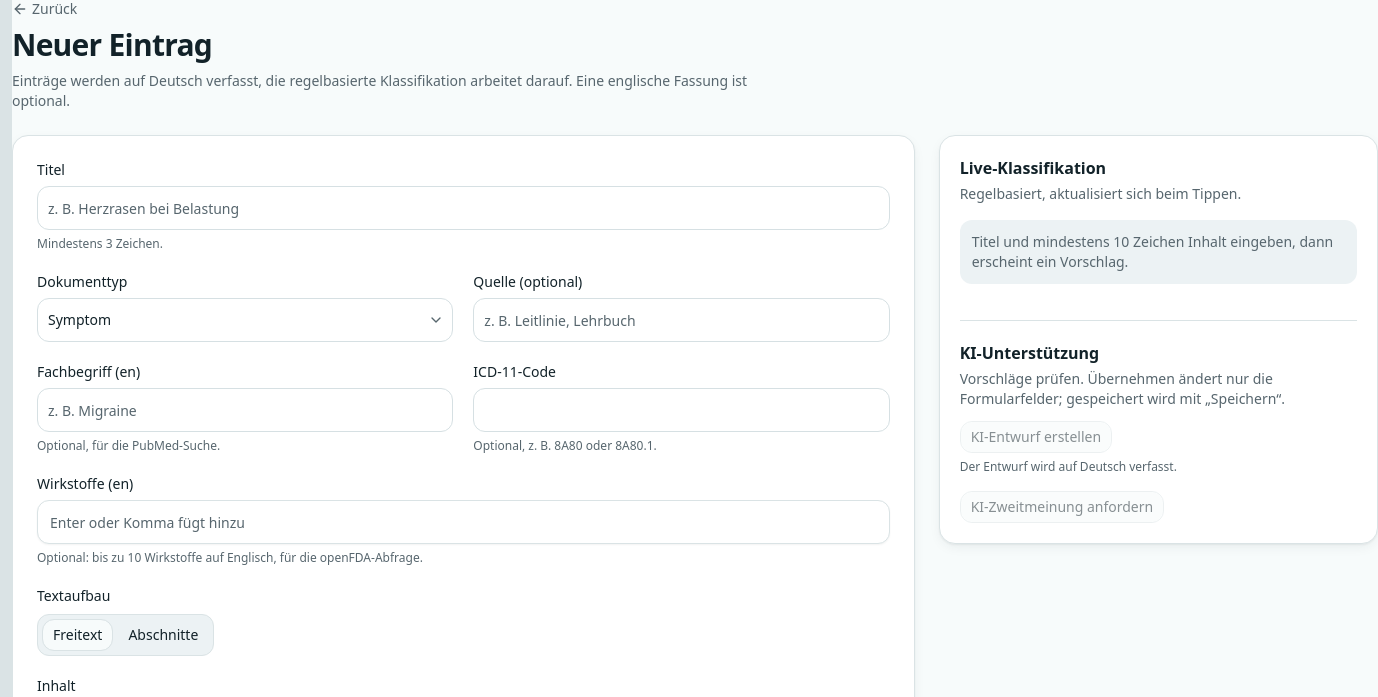
Test: shows an AI category opinion separately and applies it only on request
The width and height of the screenshot is (1378, 697).
Step 1. Type "Herzrasen" into the field labelled "Titel" → (463, 208), box [37, 186, 890, 230]
(page scrolled)
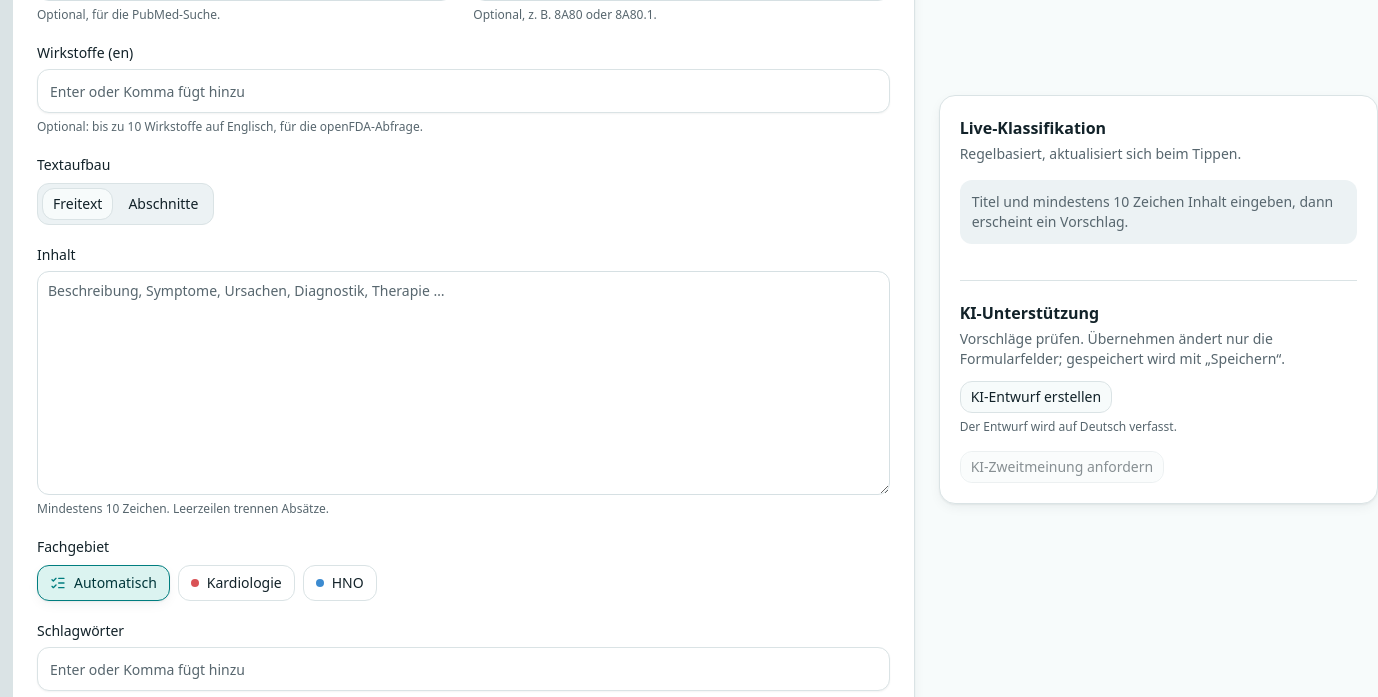
Step 2. Type "Herzrasen und Brustschmerzen bei Belastung." into the text box labelled "Inhalt" → (463, 383), box [37, 271, 890, 495]
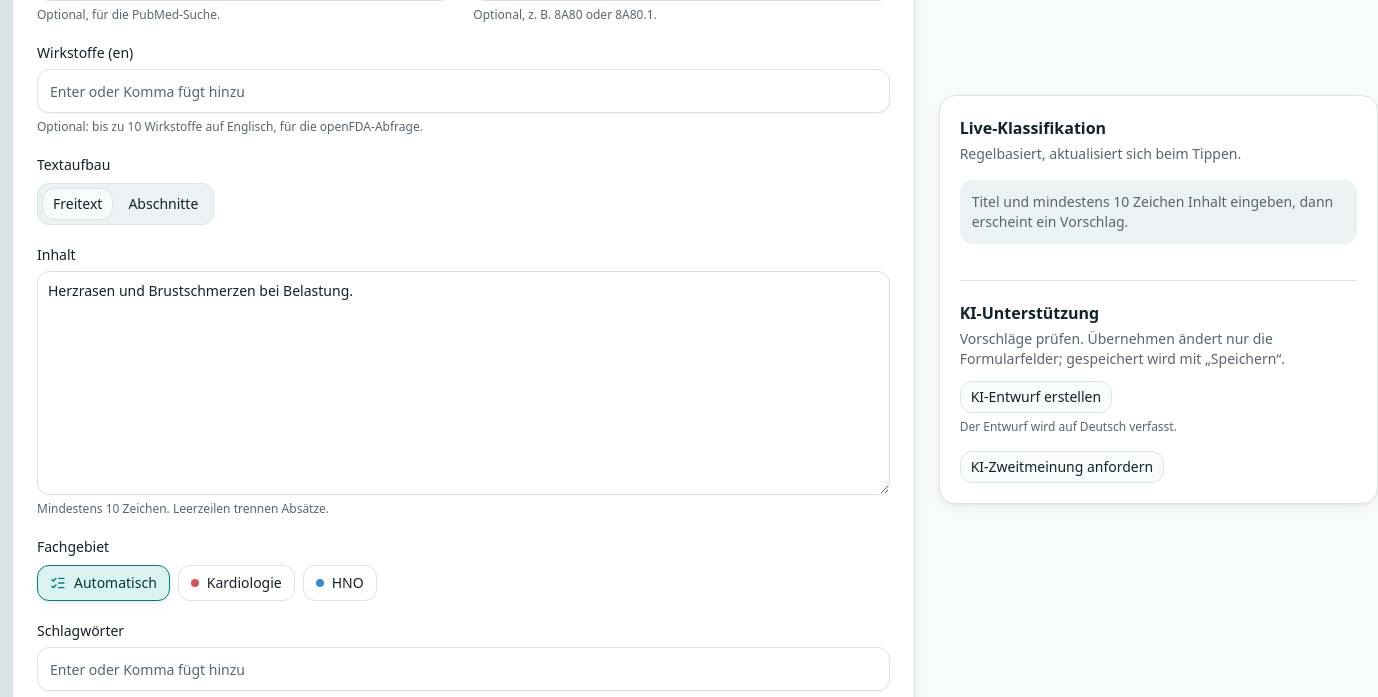
Step 3. Click the button "KI-Zweitmeinung anfordern" → (1062, 467), box [960, 451, 1164, 483]
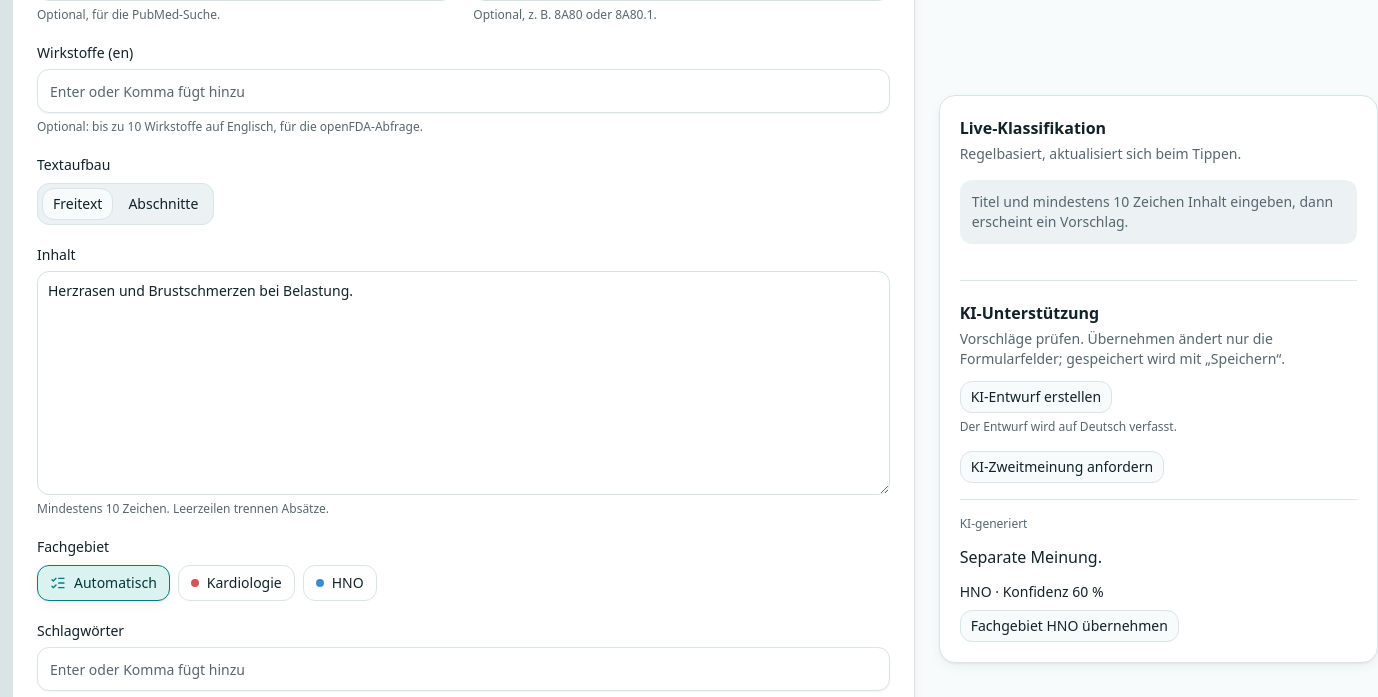
Expected: the radio button labelled "Automatisch" is checked, [37, 565, 170, 601]
Now the text "Separate Meinung." is shown, box [960, 546, 1102, 568]
Step 4. Click the button "Fachgebiet HNO übernehmen" → (1069, 626), box [960, 610, 1179, 642]
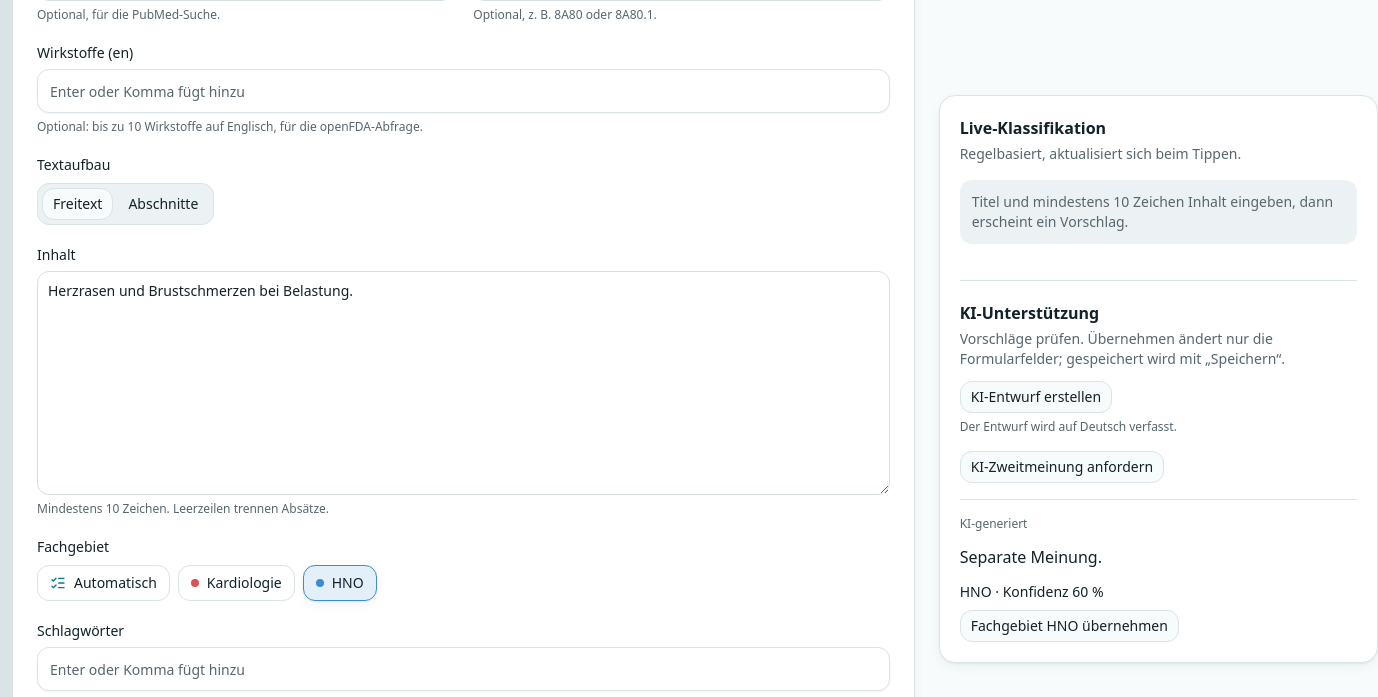
Now the radio button labelled "HNO" is checked, box [303, 565, 377, 601]
